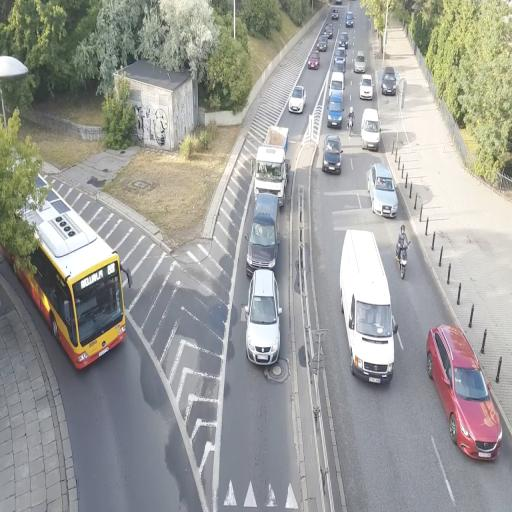vehicle: (10, 196, 128, 372), (425, 322, 503, 461), (339, 229, 398, 385), (246, 140, 287, 275), (244, 269, 282, 366), (246, 191, 279, 275), (254, 126, 289, 204), (370, 165, 398, 219), (371, 180, 398, 220), (361, 109, 382, 151), (322, 136, 343, 174), (288, 84, 306, 114), (381, 68, 398, 95), (397, 244, 408, 280), (360, 74, 374, 101), (308, 53, 320, 70)
